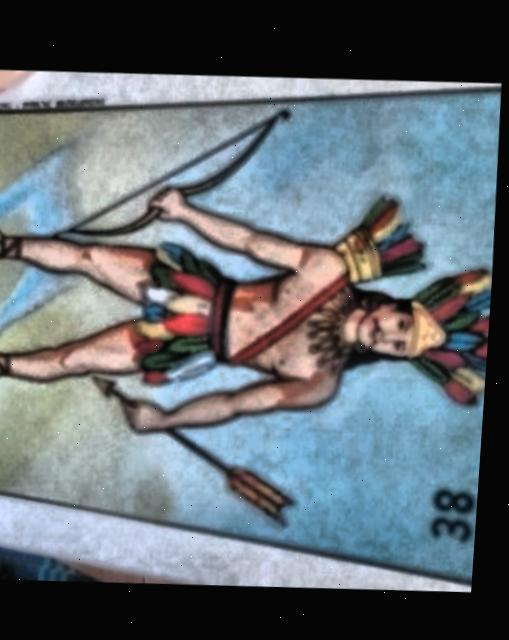El Apache: (0, 84, 501, 580)
